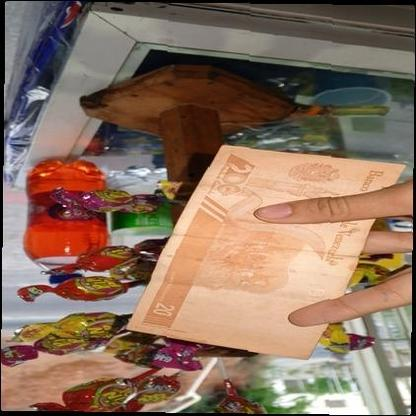twenty-back-vef: (125, 144, 406, 361)
